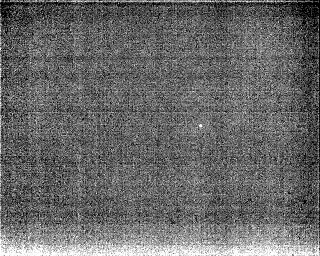BIRD: (196, 121, 204, 131)
